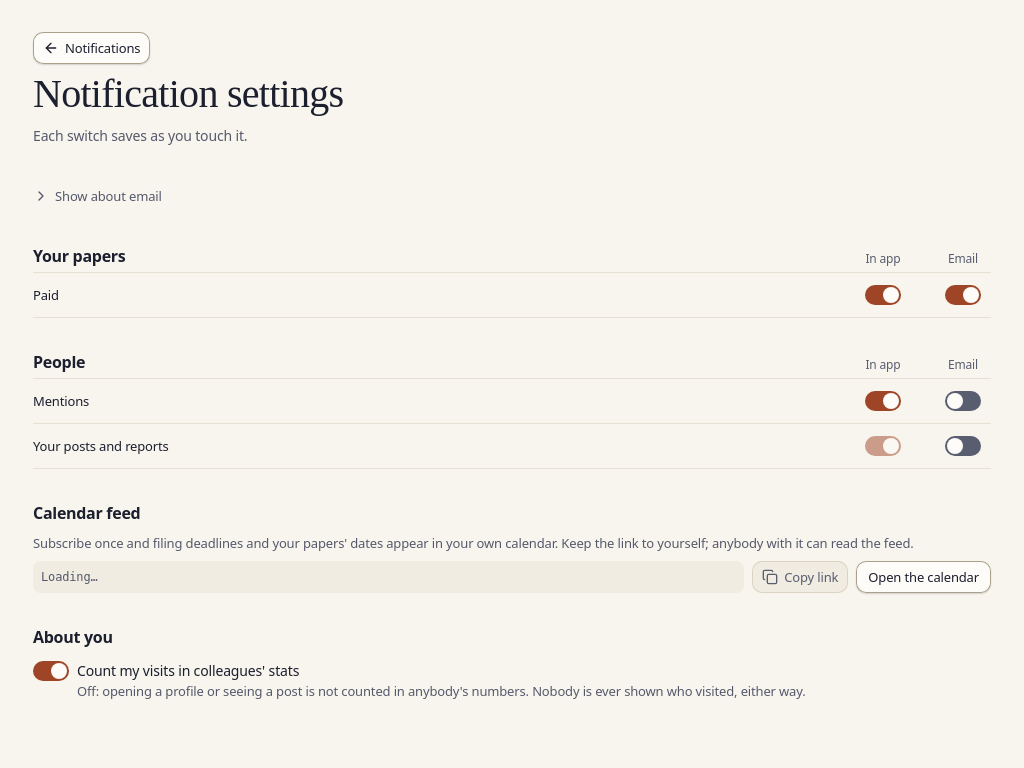
notification settings › says plainly when the college has no email set up, and offers the calendar feed
Click the button "Show about email".
click(97, 196)  # box [25,180,170,212]
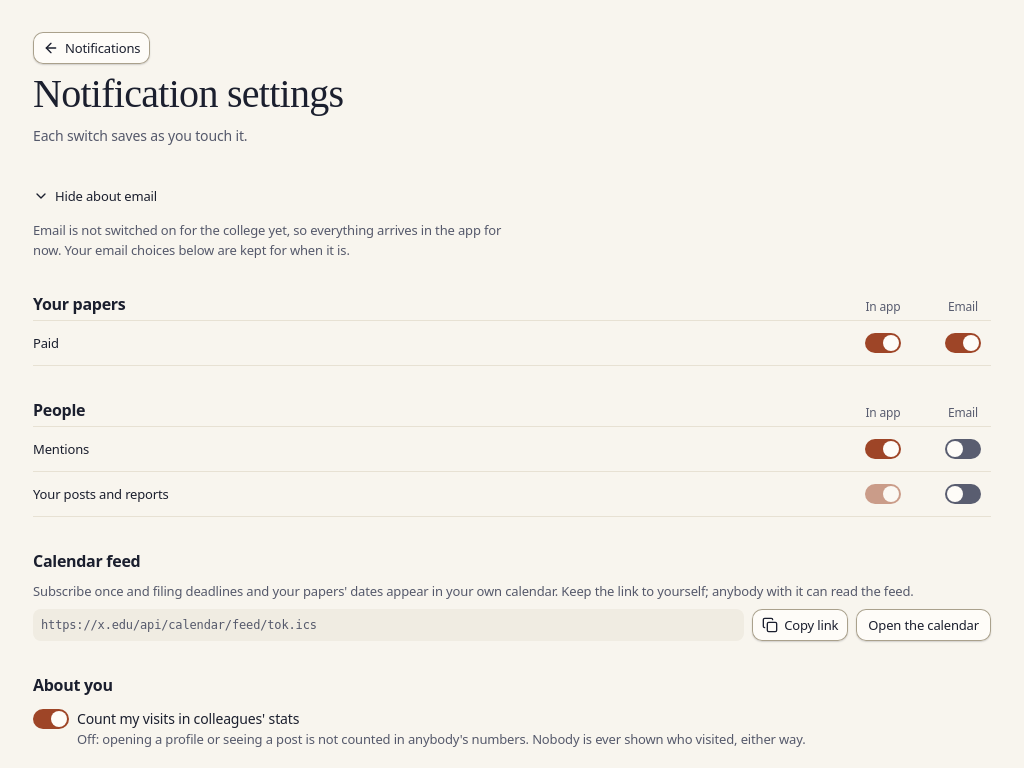
expect the text "Email is not switched on for the college yet" is shown: met, box [33,221,501,259]
expect the field showing "https://x.edu/api/calendar/feed/tok.ics" is shown: met, box [33,609,744,641]
expect the button "Copy link" is enabled: met, box [752,609,848,641]
